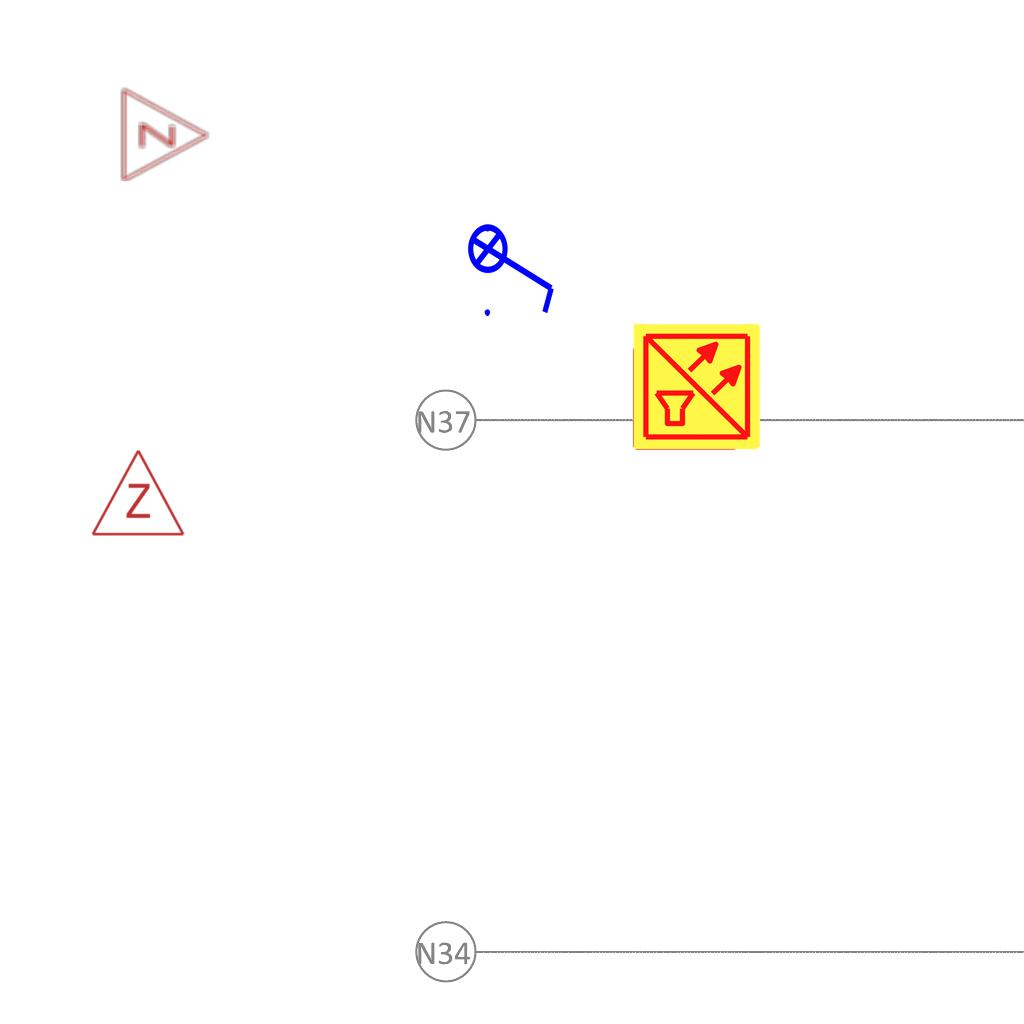Ausschalter_beleuchtet: (466, 210, 562, 322)
OKW_Multisensormelder_(Kombination_optischer_Rauch-Kahlenmonoxid_Waerme-Melder): (631, 321, 763, 453)
Zimmersignalleuchte: (115, 85, 215, 183), (88, 443, 186, 543)
